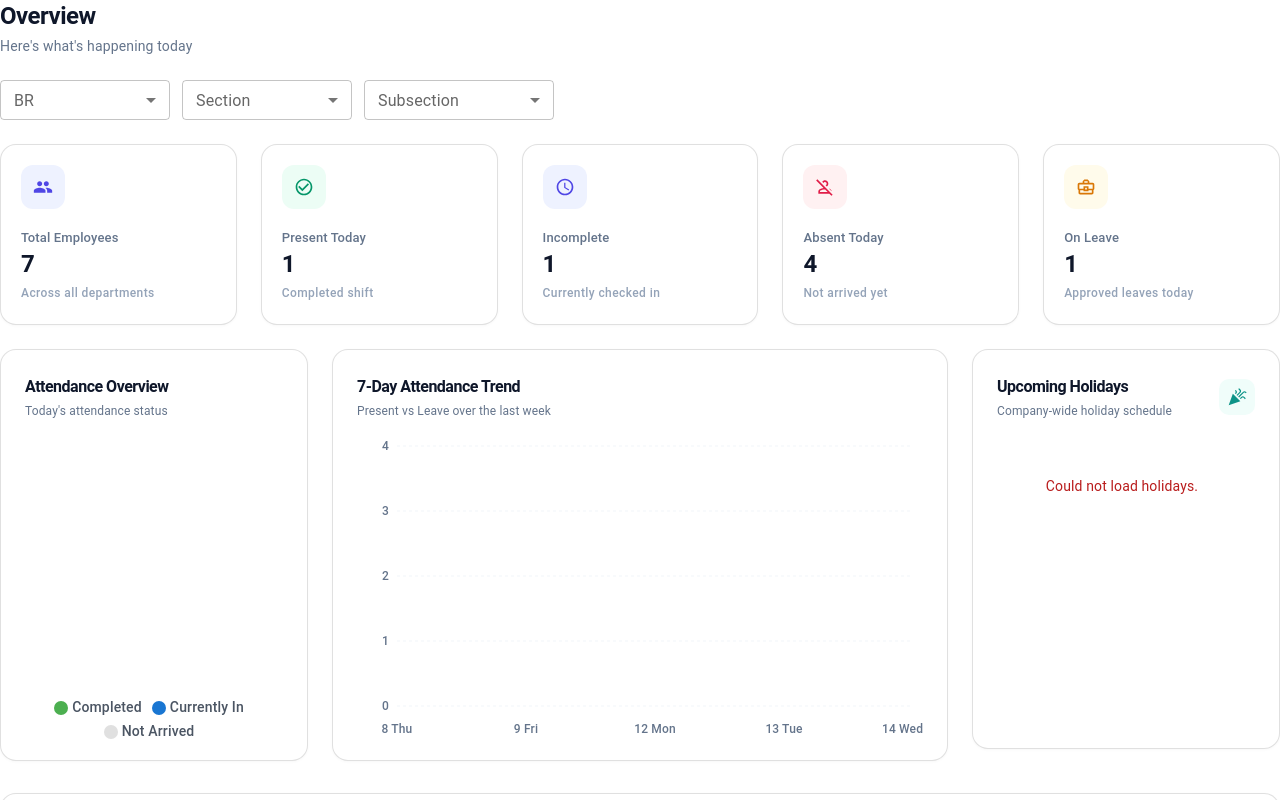
Test: opens attendance categories and resolves employee names from supported records
Expected: the heading "Overview" is shown, 0,2 -> 96,30
Click the text "Incomplete": click(576, 238) 543,230 -> 609,245
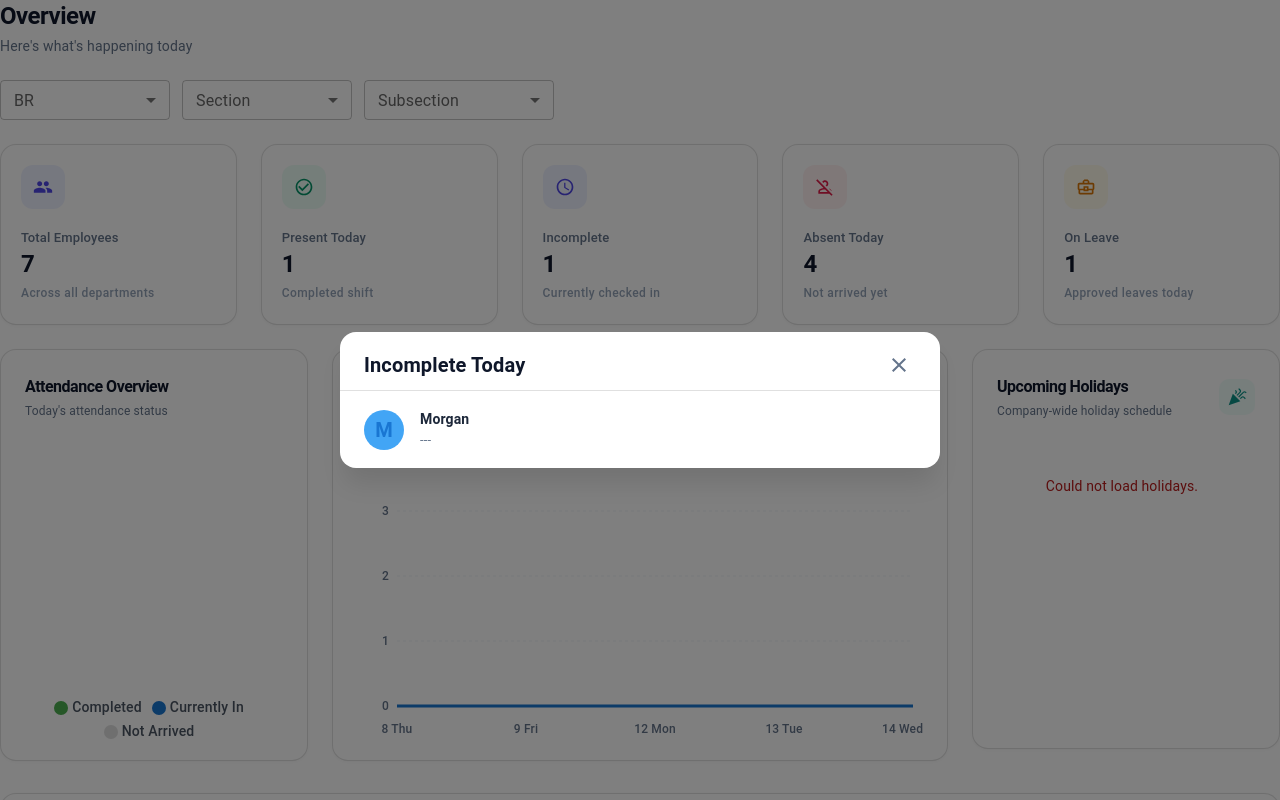
Result: the text "Morgan" is shown at 420,411 -> 469,427
Click the button: click(899, 365) 882,348 -> 916,382
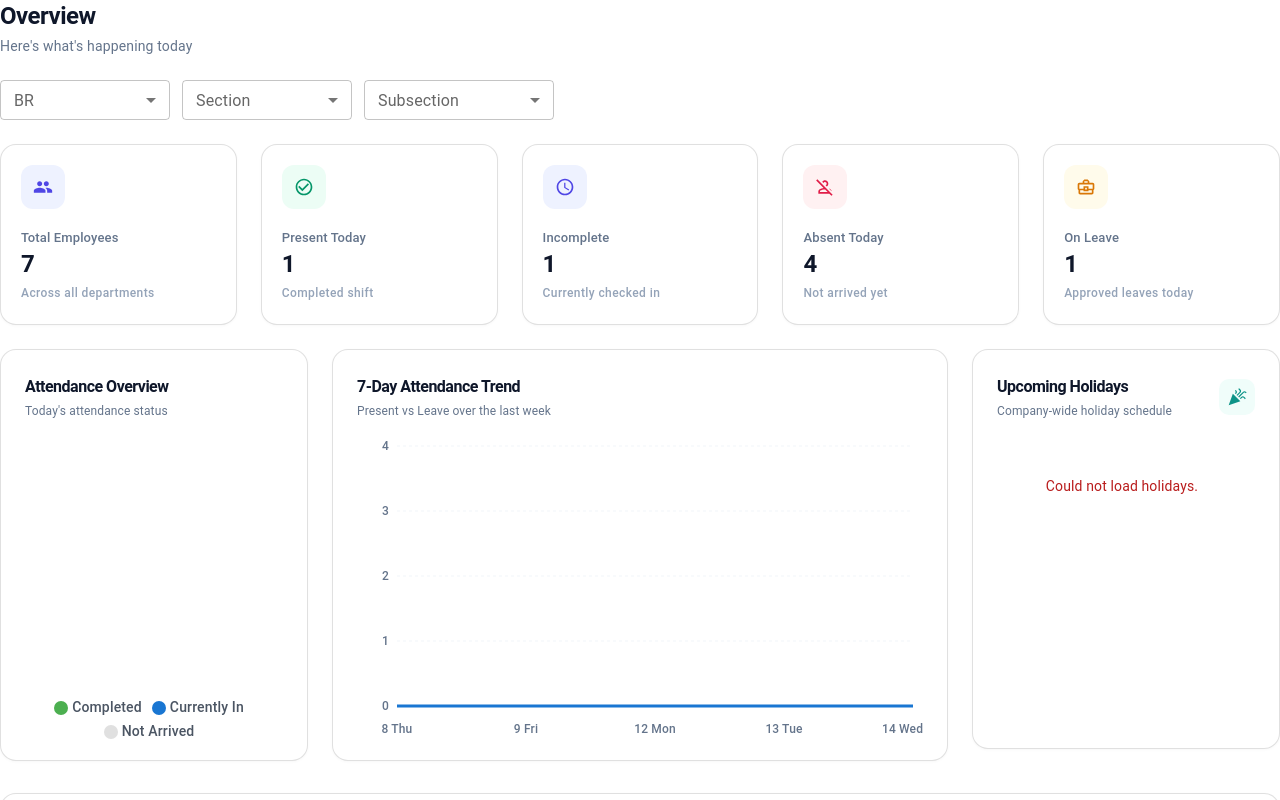
Click the text "On Leave": click(1092, 238) 1064,230 -> 1119,245
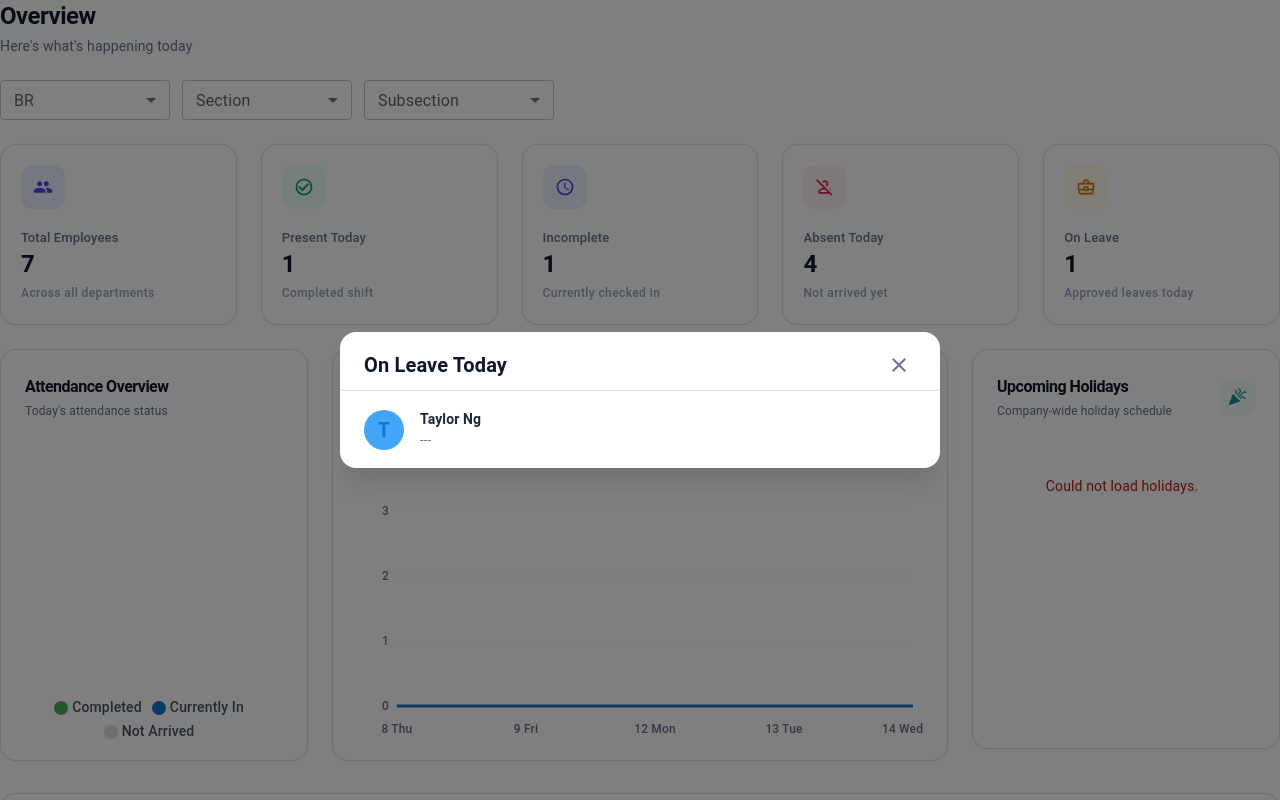
Result: the text "Taylor Ng" is shown at 420,411 -> 481,427
Click the button: click(899, 365) 882,348 -> 916,382
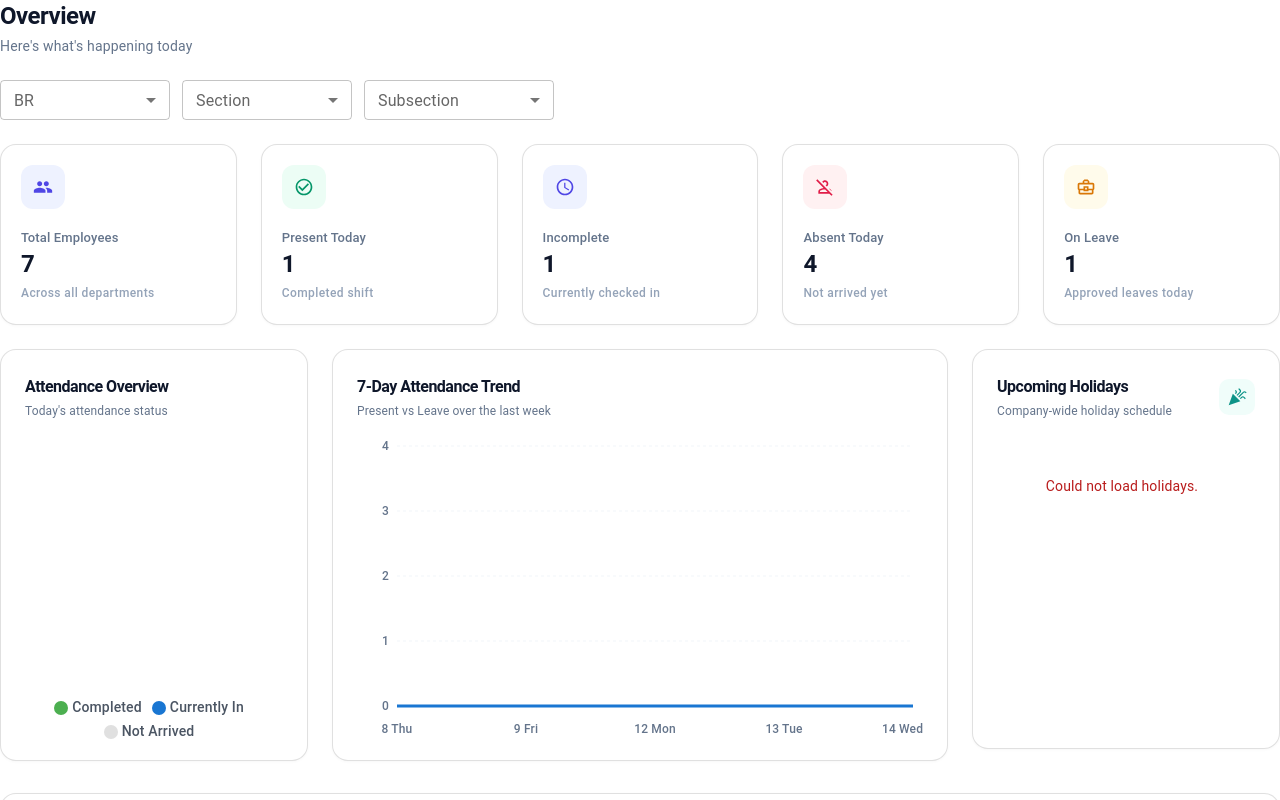
Click the text "Absent Today": click(844, 238) 803,230 -> 884,245
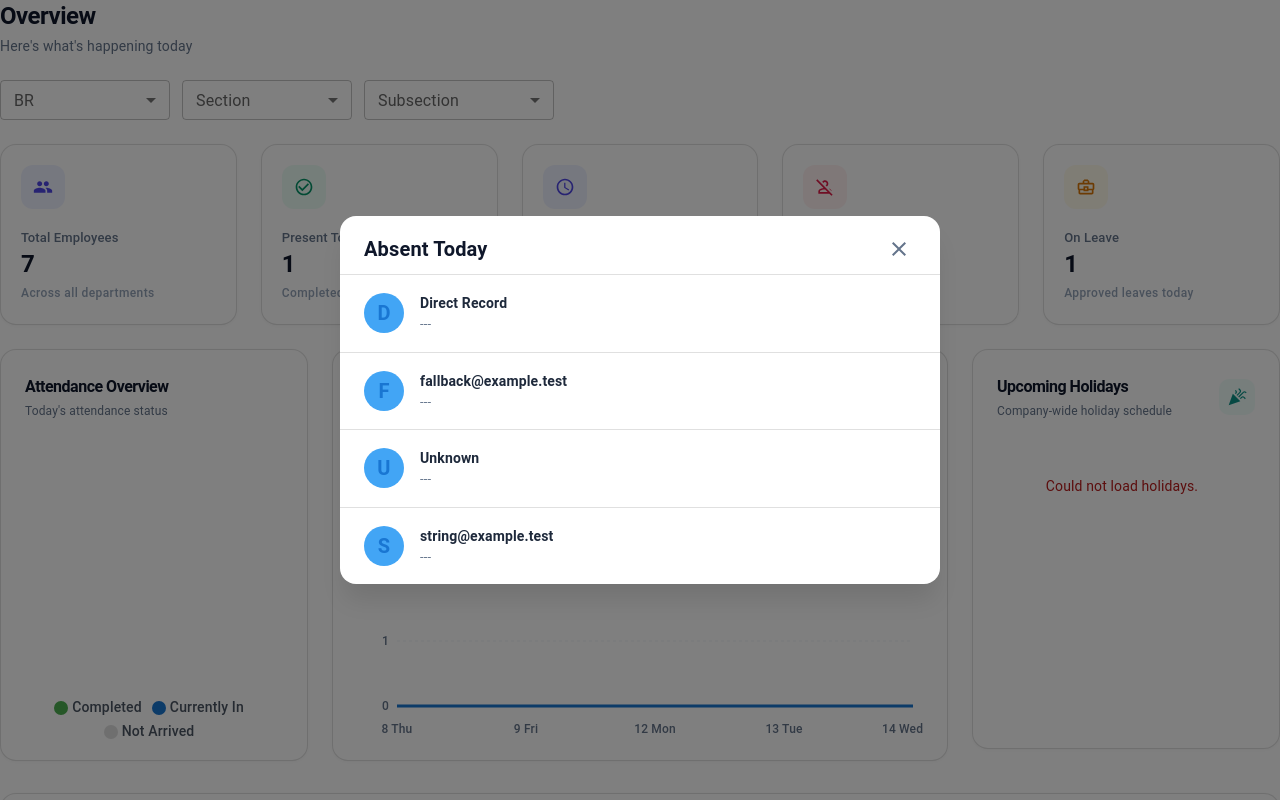
Result: the text "Direct Record" is shown at 420,295 -> 507,311
Result: the text "fallback@example.test" is shown at 420,372 -> 567,388
Result: the text "Unknown" is shown at 420,450 -> 479,466
